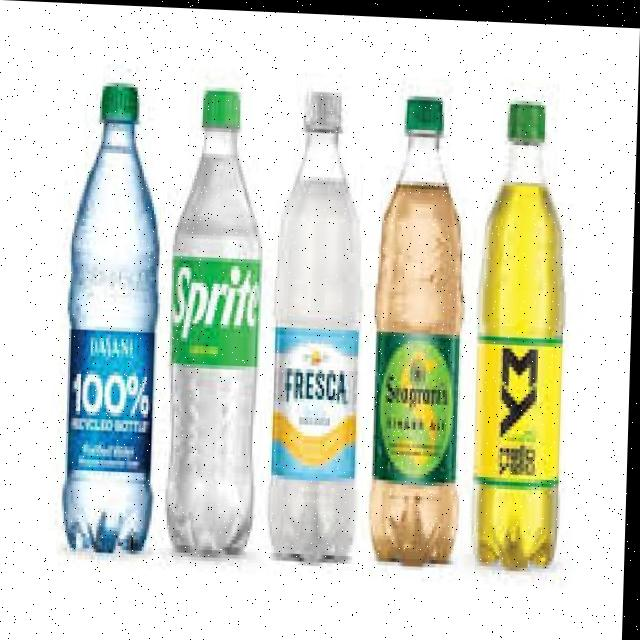bottle: (58, 76, 163, 612), (169, 73, 280, 563)
